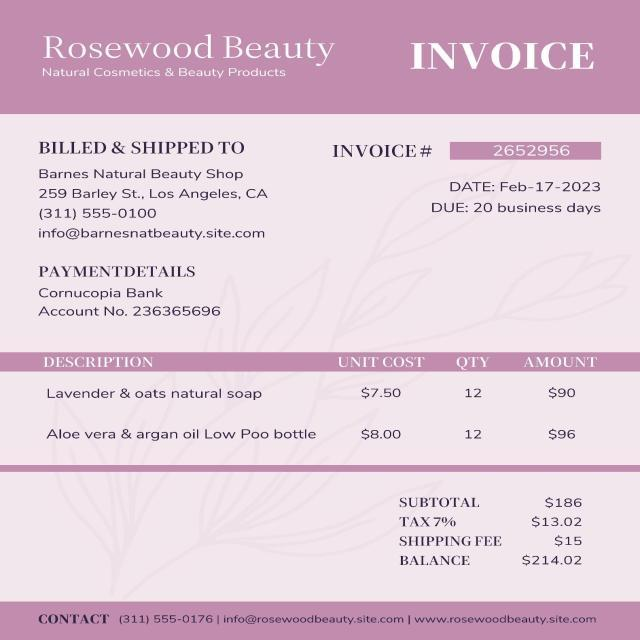ROI: (28, 352, 622, 454), (19, 132, 282, 245), (323, 124, 616, 220), (383, 480, 599, 578), (38, 20, 342, 87), (22, 604, 608, 632), (22, 255, 238, 327), (402, 31, 610, 77)
